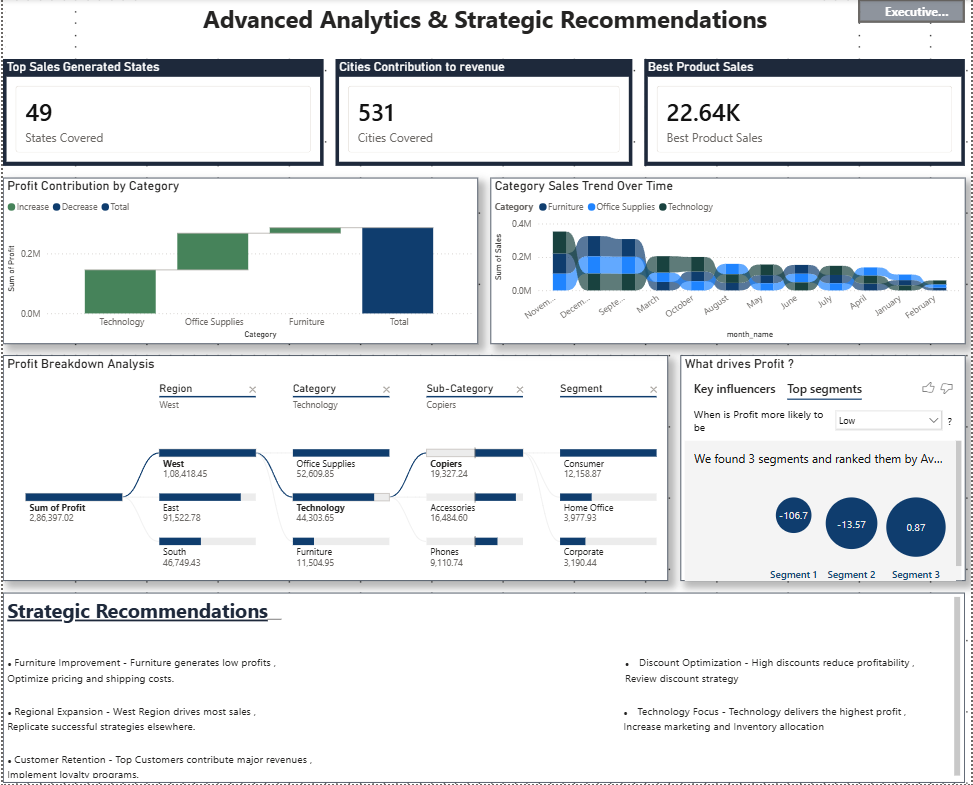

Layout of this report page (visuals, bound fields, positions):
{"tool":"powerbi","page":{"name":"Geographic and Regional Analysis","canvas":[1303,1058],"ordinal":3},"visuals":[{"type":"cardVisual","title":"Top Sales Generated States","fields":{"Data":["engineered_superstore.States Covered"]},"box":[0,80,432,144],"z":0},{"type":"cardVisual","title":"Cities Contribution to revenue","fields":{"Data":["engineered_superstore.Cities Covered"]},"box":[448,80,400,144],"z":1000},{"type":"waterfallChart","title":"Profit Contribution by Category","fields":{"Category":["engineered_superstore.Category"],"Y":["Sum(engineered_superstore.Profit)"]},"box":[0,240,640,224],"z":2000},{"type":"decompositionTreeVisual","title":"Profit Breakdown Analysis","fields":{"Analyze":["Sum(engineered_superstore.Profit)"],"ExplainBy":["engineered_superstore.Region","engineered_superstore.Category","engineered_superstore.Sub-Category","engineered_superstore.Segment"]},"box":[0,480,896,304],"z":3000},{"type":"ribbonChart","title":"Category Sales Trend Over Time","fields":{"Category":["engineered_superstore.month_name"],"Series":["engineered_superstore.Category"],"Y":["Sum(engineered_superstore.Sales)"]},"box":[656,240,640,224],"z":4000},{"type":"keyDriversVisual","title":"What drives Profit ?","fields":{"ExplainBy":["engineered_superstore.Discount","engineered_superstore.Category","engineered_superstore.Region","engineered_superstore.Segment","engineered_superstore.Sub-Category"],"Target":["engineered_superstore.Profit"]},"box":[912,480,384,304],"z":5000},{"type":"cardVisual","title":"Best Product Sales","fields":{"Data":["engineered_superstore.Best Product Sales"]},"box":[864,80,432,144],"z":6000},{"type":"actionButton","box":[1152,0,144,32],"z":7000},{"type":"textbox","box":[0,800,1296,256],"z":8000},{"type":"textbox","box":[192,0,912,80],"z":9000}]}

Visuals, with their boxes in screenshot pixels (x1, y1, x2, y2), scaled from the page's 1303x1058 canvas onto the 973x785 screenshot:
"Top Sales Generated States" cardVisual: left=0, top=59, right=323, bottom=166
"Cities Contribution to revenue" cardVisual: left=335, top=59, right=633, bottom=166
"Profit Contribution by Category" waterfallChart: left=0, top=178, right=478, bottom=344
"Profit Breakdown Analysis" decompositionTreeVisual: left=0, top=356, right=669, bottom=582
"Category Sales Trend Over Time" ribbonChart: left=490, top=178, right=968, bottom=344
"What drives Profit ?" keyDriversVisual: left=681, top=356, right=968, bottom=582
"Best Product Sales" cardVisual: left=645, top=59, right=968, bottom=166
actionButton: left=860, top=0, right=968, bottom=24
textbox: left=0, top=594, right=968, bottom=784
textbox: left=143, top=0, right=824, bottom=59
